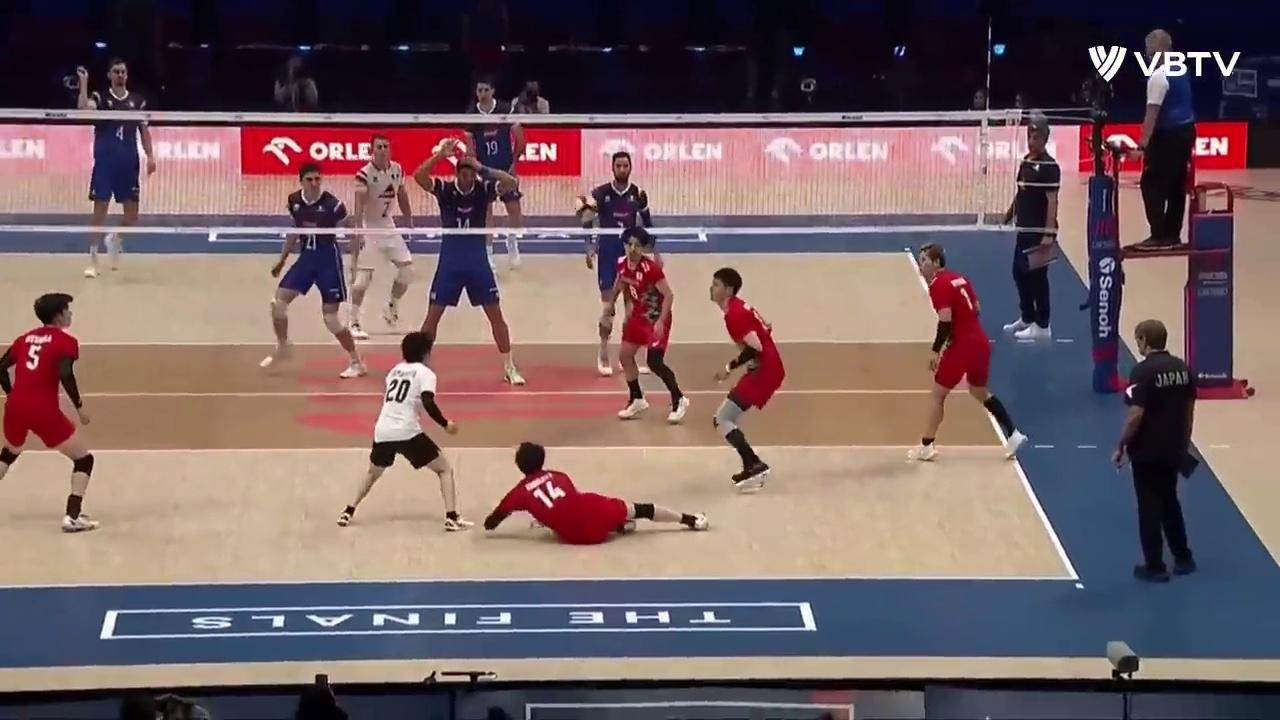ball: (573, 195, 598, 221)
